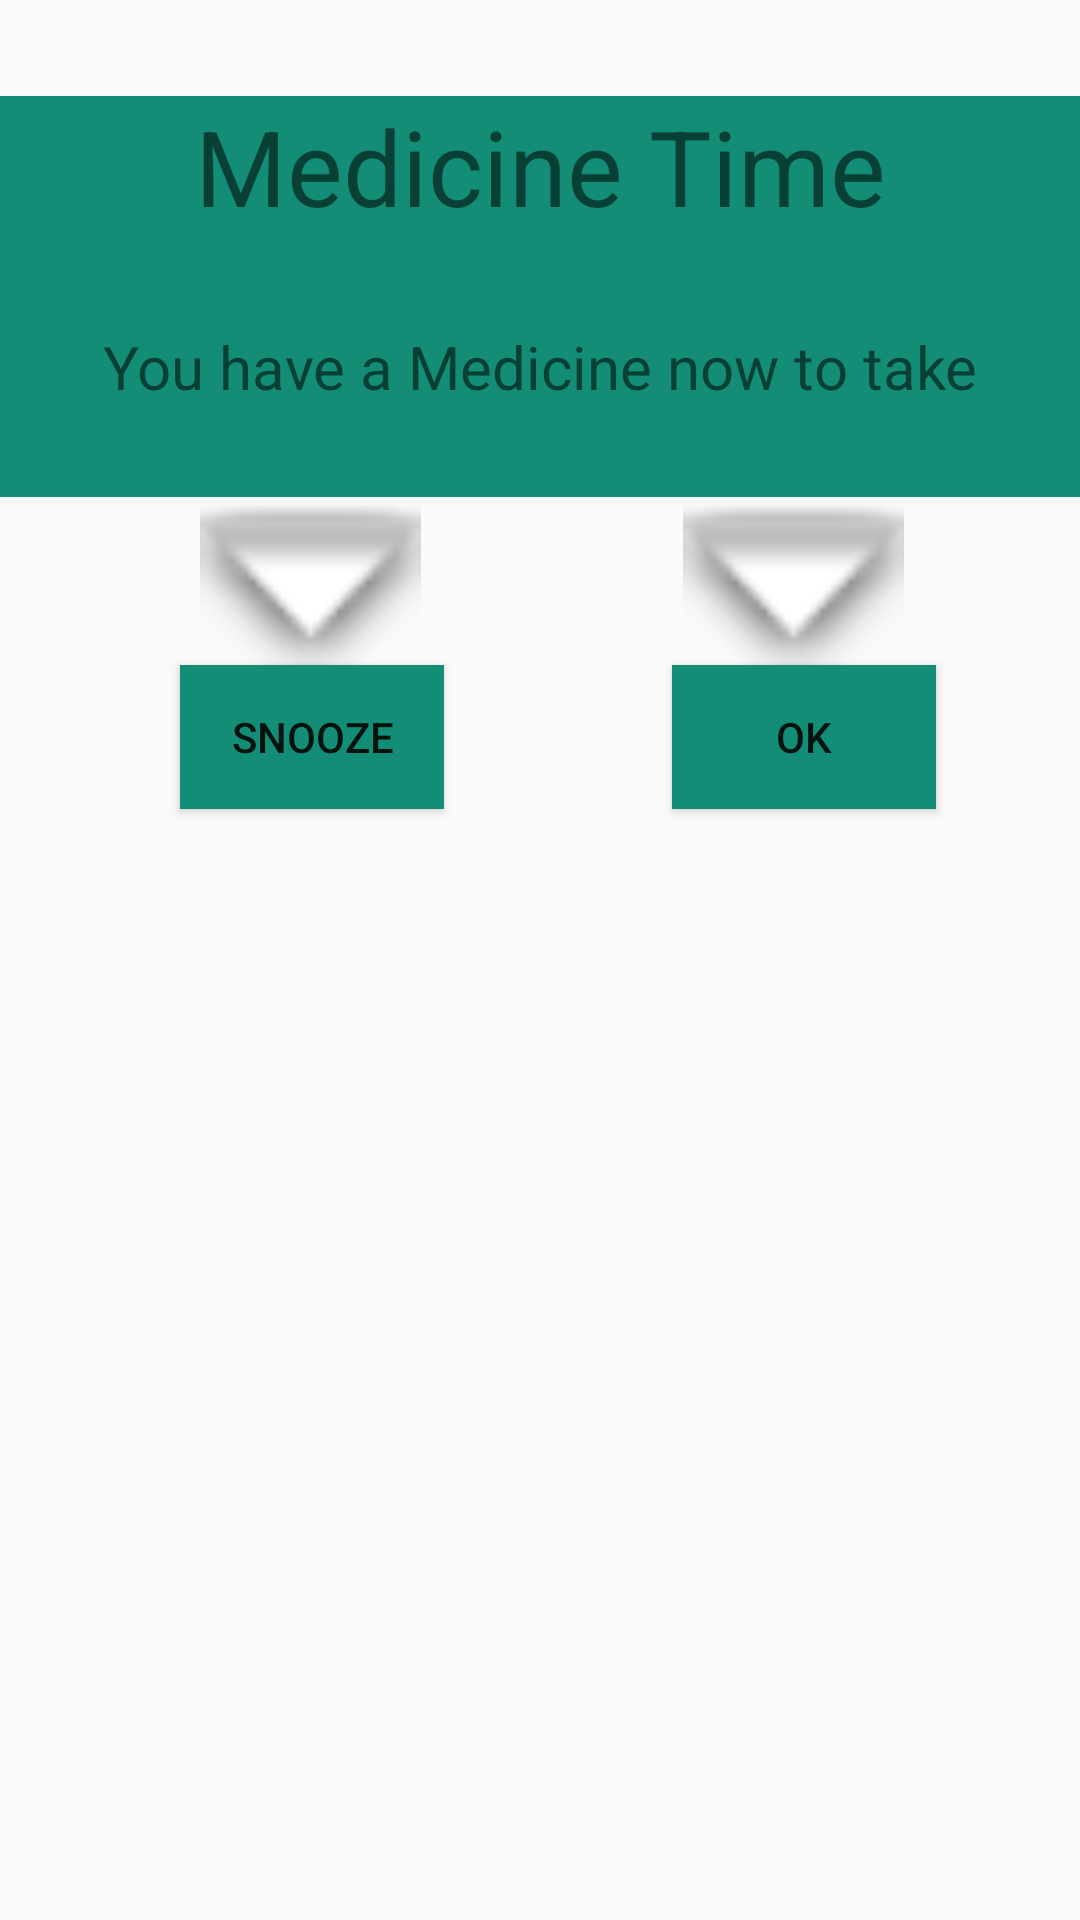

Icons on this 1080w x 1920h Android screen, each with the point to tap as point (x, y):
arrow down float: point (310, 585), point (793, 587)
